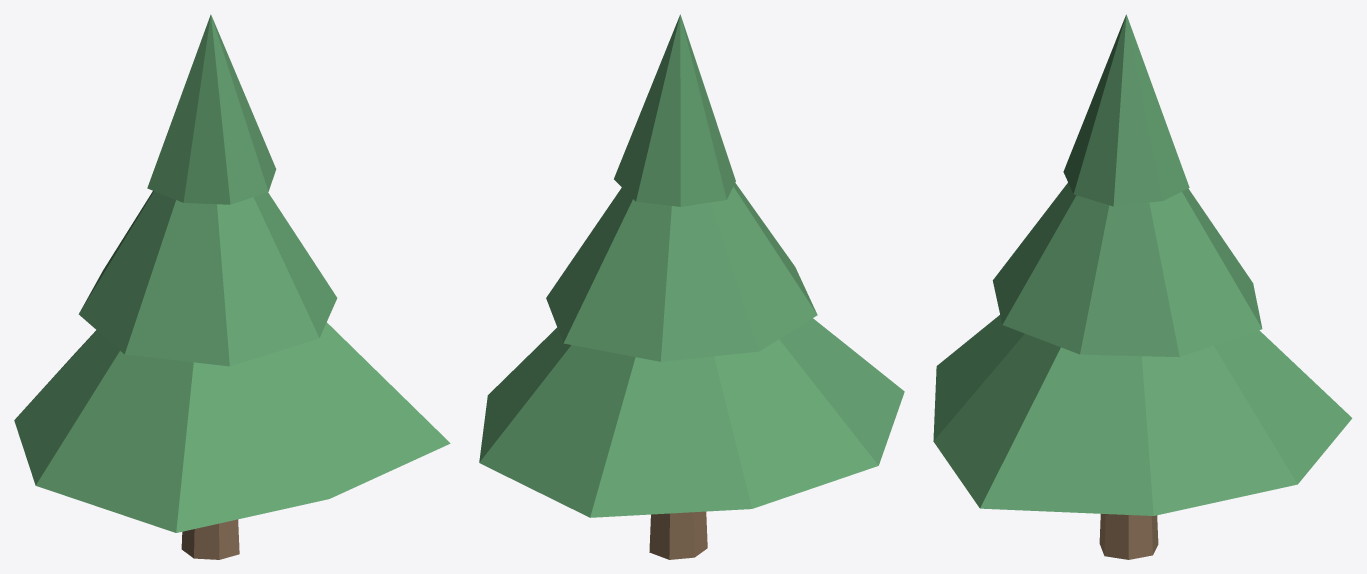
Rendered from Tree_Pine_C.fbx.
The picture shows the model from 3 angles, left to right: view 1: azimuth 30°, elevation 25°; view 2: azimuth 150°, elevation 25°; view 3: azimuth 270°, elevation 25°; orthographic projection.
Parts seen in each view (by area): view 1: Tree_Pine_C; view 2: Tree_Pine_C; view 3: Tree_Pine_C.
Boxes of the visible parts, bbox=[...] form: Tree_Pine_C: bbox=[14, 14, 450, 559]; Tree_Pine_C: bbox=[479, 14, 904, 559]; Tree_Pine_C: bbox=[933, 14, 1352, 559].
Bounding box in the file's own units: 6.45 × 9.01 × 6.41.
